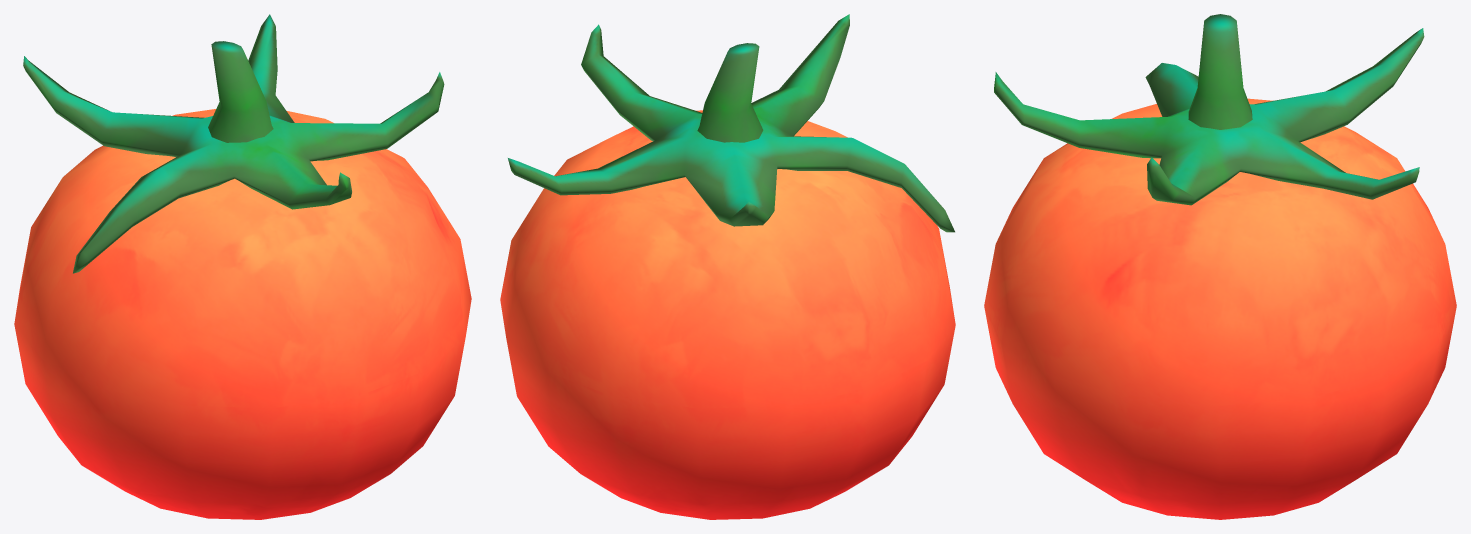
The model's file is tomato.glb.
3 views of the same model, side by side, from view 1: azimuth 30°, elevation 25°; view 2: azimuth 150°, elevation 25°; view 3: azimuth 270°, elevation 25° (orthographic). The views are drawn at different scales.
Visible parts, largest first — view 1: Tomato; view 2: Tomato; view 3: Tomato.
Part boxes in pixels (x1,y1,x2,y2): Tomato: (14,14,471,519); Tomato: (500,14,955,519); Tomato: (984,14,1456,519).
Size of what is drawn, in the model's own units: 0.96 by 1.02 by 0.96.
1 material, 1 textured.
